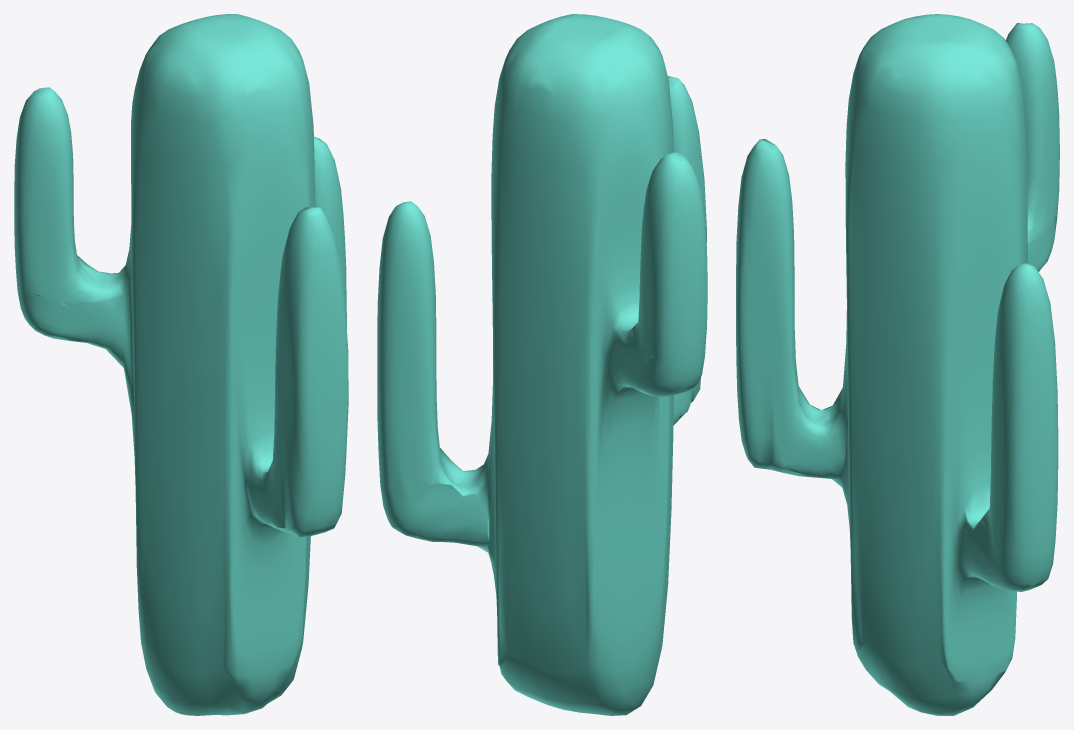
3 views of the same model, side by side, from view 1: azimuth 30°, elevation 25°; view 2: azimuth 150°, elevation 25°; view 3: azimuth 270°, elevation 25° (orthographic).
Size of the model in its own units: 0.5087 by 1 by 0.443.
